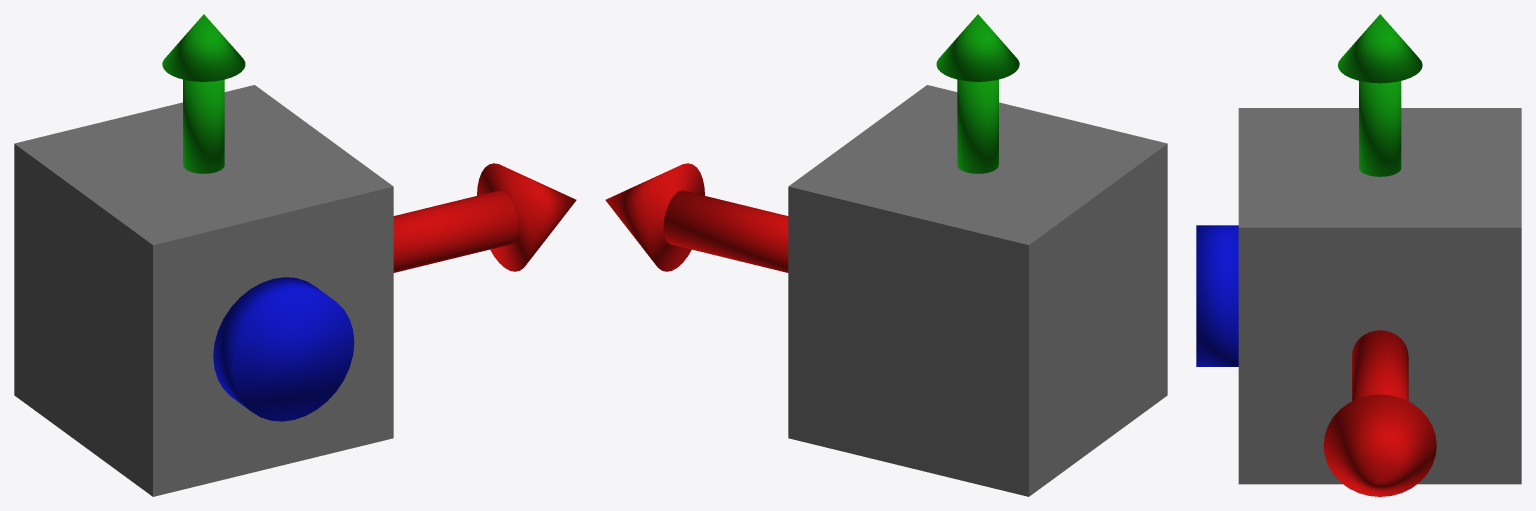
File: orientation_cube.obj
3 renders of one model, left to right at view 1: azimuth 30°, elevation 25°; view 2: azimuth 150°, elevation 25°; view 3: azimuth 270°, elevation 25°, orthographic.
Parts seen in each view (by area): view 1: orientation_cube; view 2: orientation_cube; view 3: orientation_cube.
Boxes of the visible parts, box(x1,y1,x2,y2) form: orientation_cube: box(14, 14, 576, 496); orientation_cube: box(605, 14, 1167, 496); orientation_cube: box(1196, 14, 1521, 496).
Bounding box in the file's own units: 0.41 × 0.32 × 0.23.
